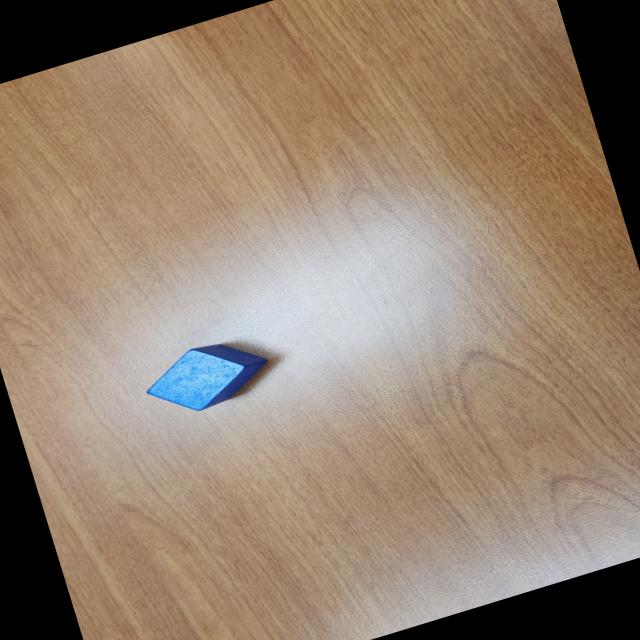blue: (137, 328, 278, 424)
